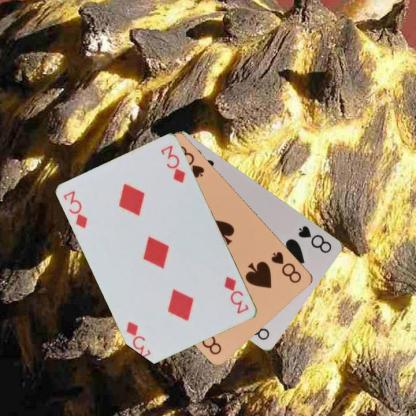3d: (60, 188, 90, 230), (221, 274, 250, 315)
8s: (269, 248, 303, 285), (296, 223, 333, 255)
